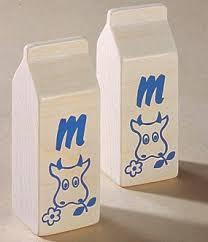Tetra pack: (5, 2, 195, 234)
